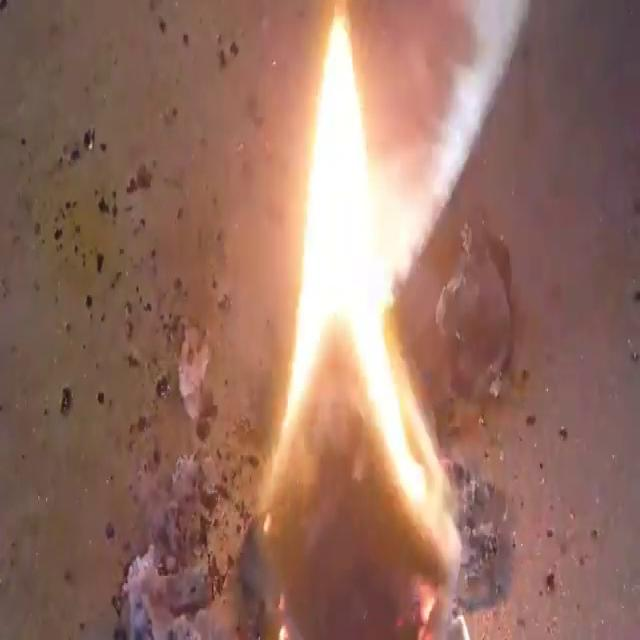Fire: (254, 12, 466, 633)
